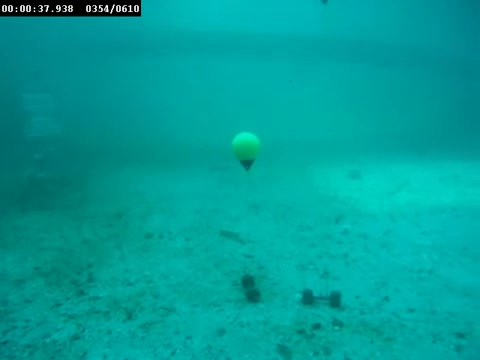buoy_green: (231, 131, 260, 172)
